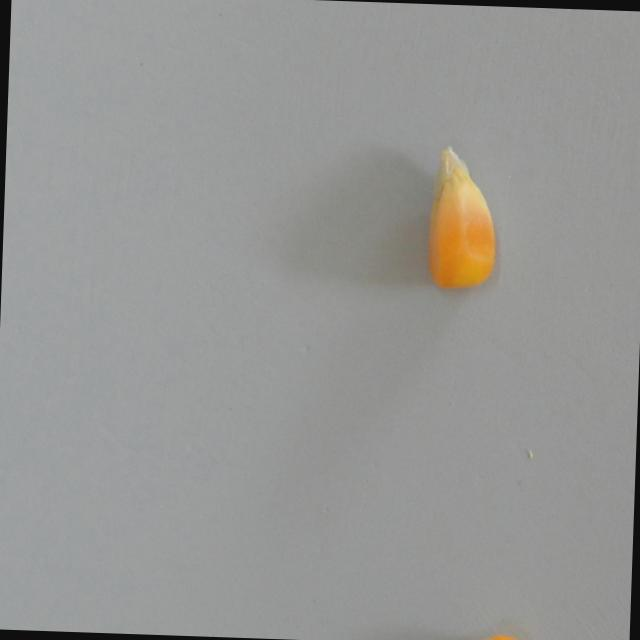entero: (405, 135, 527, 307)
